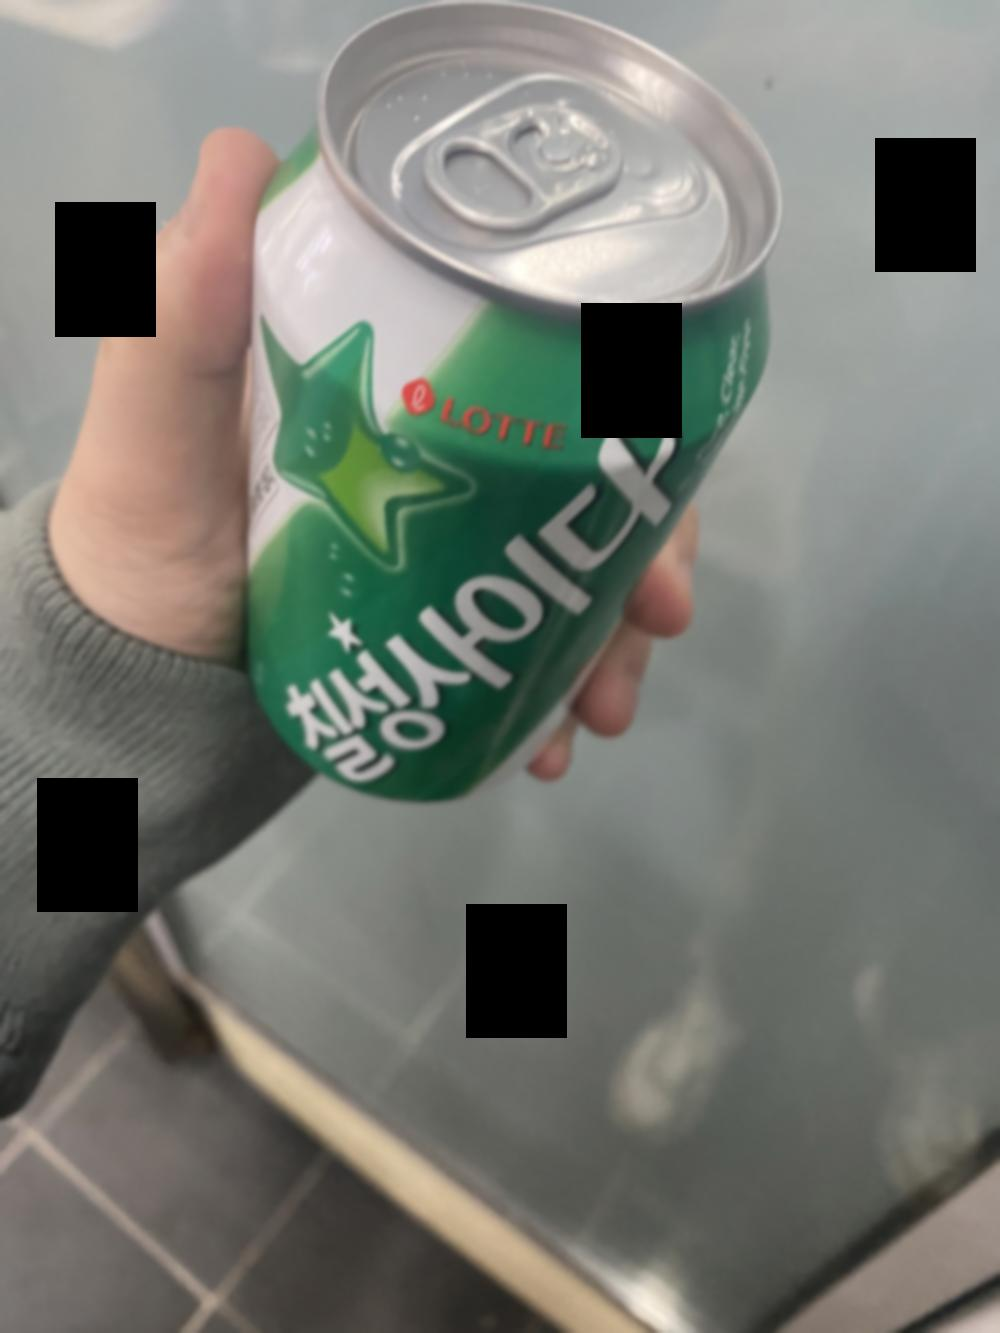chilsungcider: (228, 11, 792, 814)
